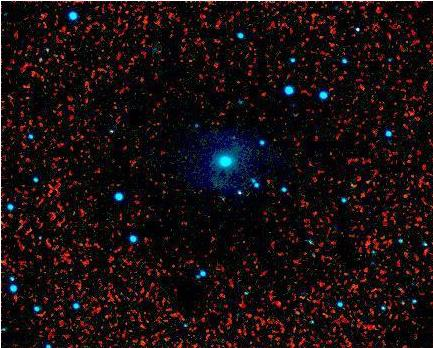star: (217, 122, 247, 152)
